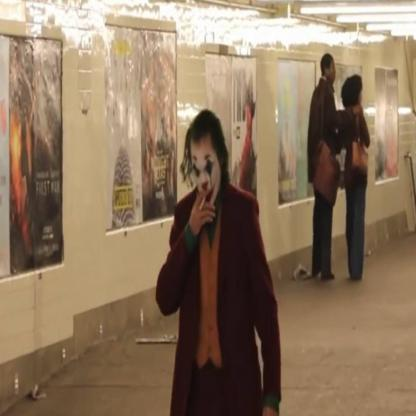cigarette: (198, 194, 208, 214)
person: (157, 104, 288, 414), (304, 49, 342, 286), (336, 70, 370, 284)
